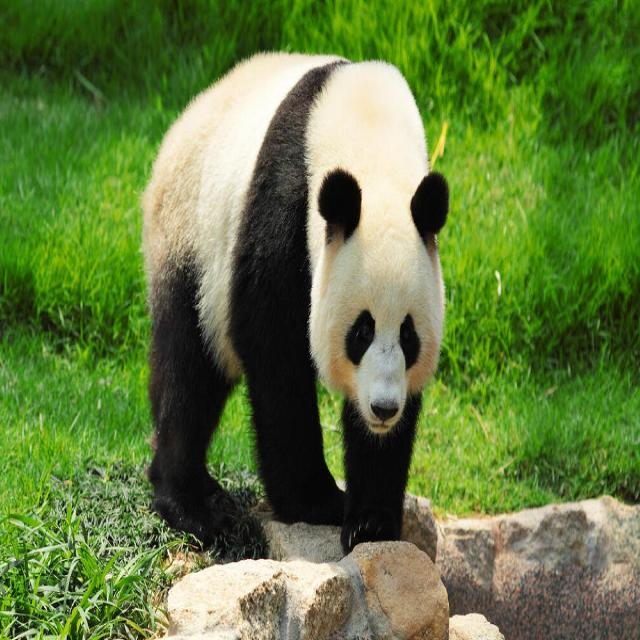panda: (143, 52, 449, 554)
